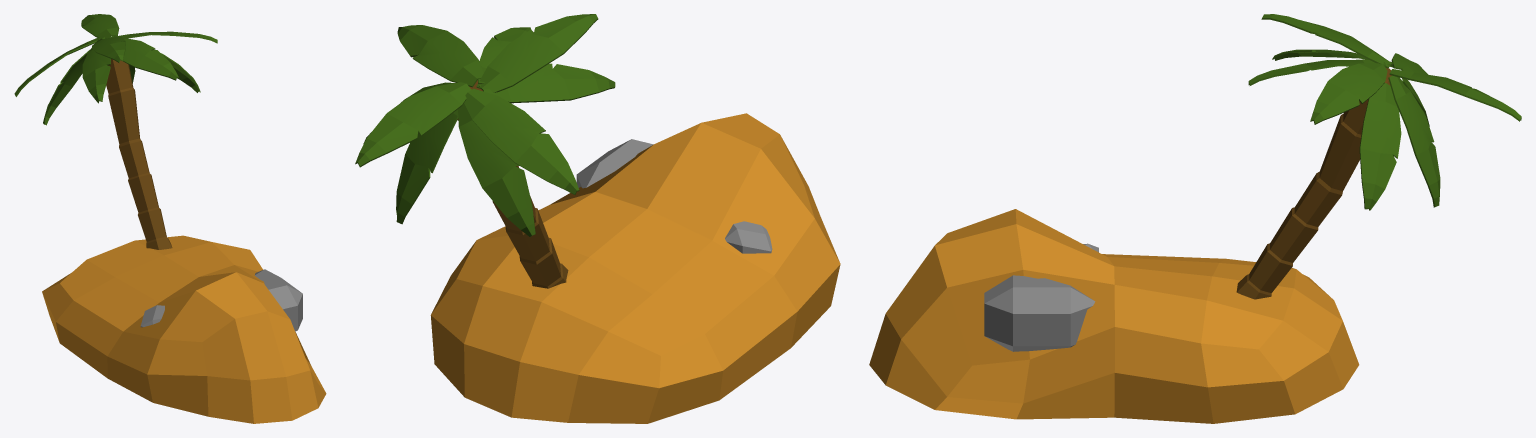
File: Mesh_Island2.fbx
The picture shows the model from 3 angles, left to right: view 1: azimuth 30°, elevation 25°; view 2: azimuth 150°, elevation 25°; view 3: azimuth 270°, elevation 25°; orthographic projection. The views are drawn at different scales.
Visible parts, largest first — view 1: Mesh_Island2; view 2: Mesh_Island2; view 3: Mesh_Island2.
Boxes of the visible parts, left/top/right/bottom form: Mesh_Island2: left=14, top=14, right=326, bottom=423; Mesh_Island2: left=355, top=14, right=840, bottom=423; Mesh_Island2: left=869, top=14, right=1521, bottom=423.
Size of the model in its own units: 355 by 453 by 775.
1 material, 1 textured.
